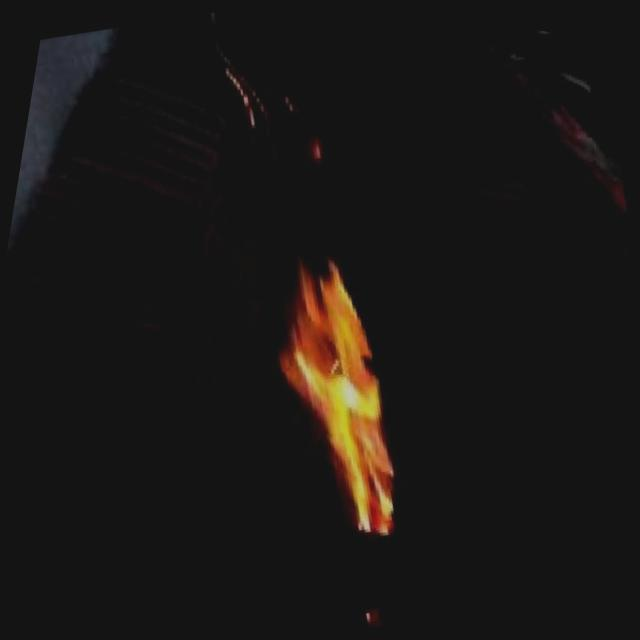fire: (143, 110, 522, 611)
